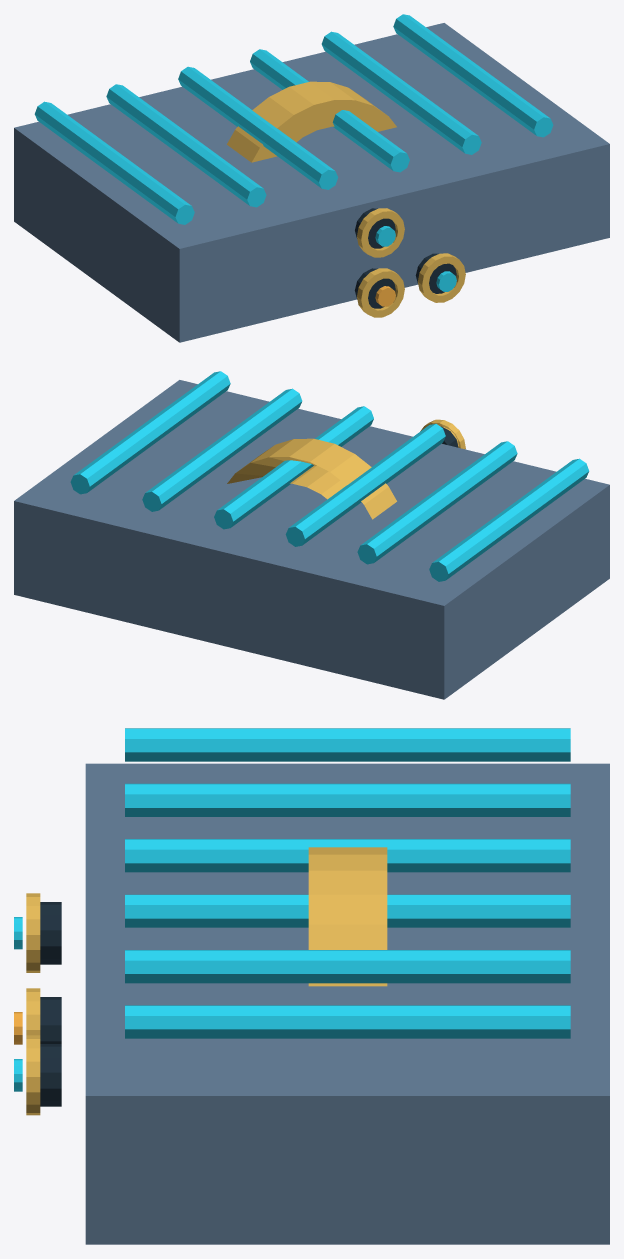
File: 47_L83_BatteryThermalControlPlate.fbx
The picture shows the model from 3 angles, top to bottom: view 1: azimuth 30°, elevation 25°; view 2: azimuth 150°, elevation 25°; view 3: azimuth 270°, elevation 25°; orthographic projection. The views are drawn at different scales.
Visible parts, largest first — view 1: BatteryThermalControlPlate, BatteryThermalControlPlate_Part_0007; view 2: BatteryThermalControlPlate, BatteryThermalControlPlate_Part_0007; view 3: BatteryThermalControlPlate, BatteryThermalControlPlate_Part_0007.
Boxes of the visible parts, x1,y1,x2,y2 form: BatteryThermalControlPlate: (14, 14, 609, 342); BatteryThermalControlPlate_Part_0007: (227, 81, 396, 162); BatteryThermalControlPlate: (14, 371, 609, 699); BatteryThermalControlPlate_Part_0007: (227, 438, 396, 519); BatteryThermalControlPlate: (14, 728, 609, 1244); BatteryThermalControlPlate_Part_0007: (308, 847, 387, 986).
Bounding box in the file's own units: 120 × 47.65 × 90.95.
